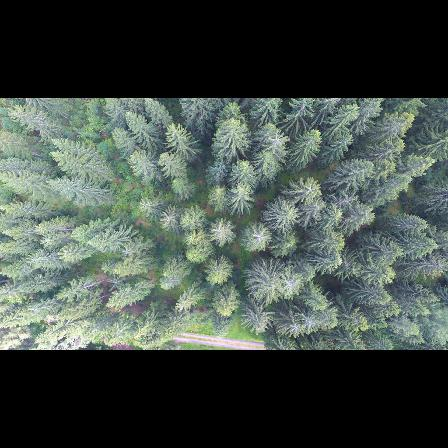Sick: (264, 130, 287, 158), (249, 224, 271, 248), (303, 316, 318, 331), (287, 322, 302, 335)
